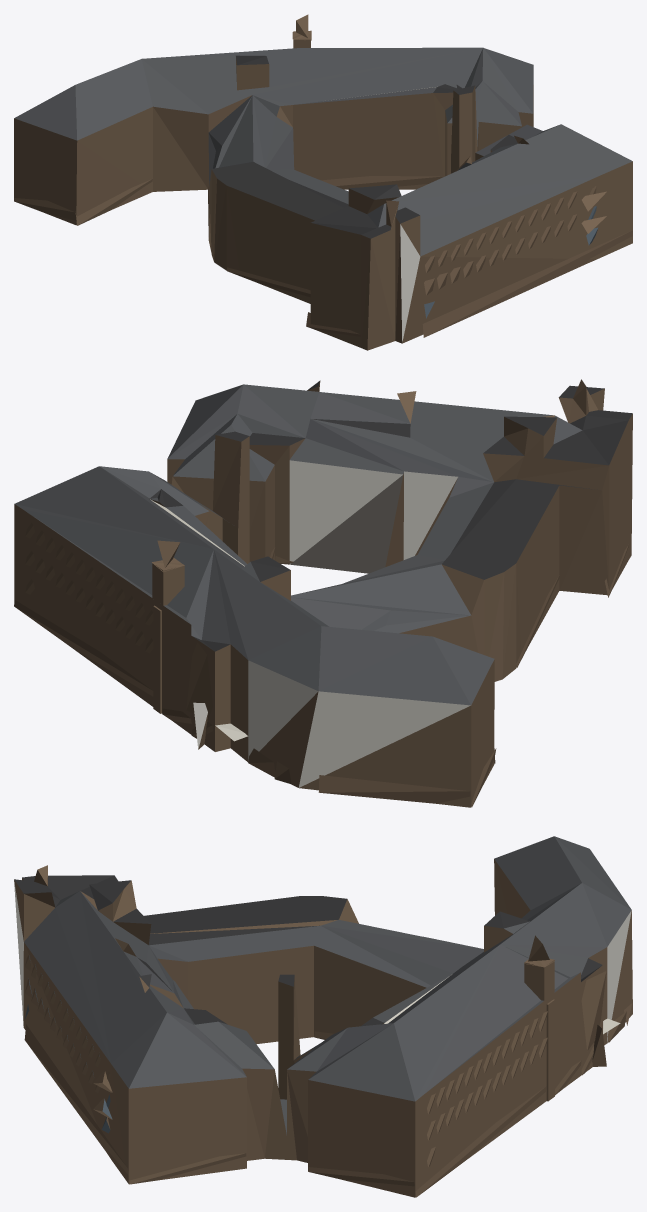
File: nieuwe-achtergracht-129.lod2.glb
The picture shows the model from 3 angles, top to bottom: view 1: azimuth 30°, elevation 25°; view 2: azimuth 150°, elevation 25°; view 3: azimuth 270°, elevation 25°; orthographic projection. The views are drawn at different scales.
Visible parts, largest first — view 1: lod2; view 2: lod2; view 3: lod2.
Part boxes in pixels (box(x1,y1,x2,y2)): lod2: box(14, 14, 632, 350); lod2: box(14, 379, 632, 807); lod2: box(14, 836, 632, 1197).
Size of the model in its own units: 84.07 by 24.75 by 86.95.
